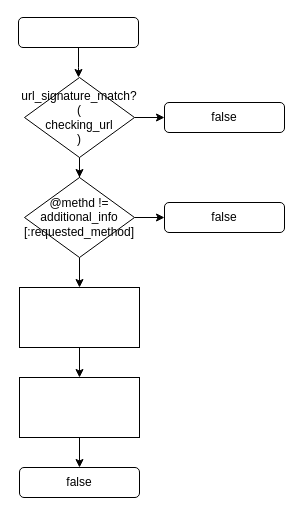
Image size: 302x515. Some labels were removed from this diagram. Here are the shapes that lost their labels. From the top down, the centre of each, then its label:
(x=78, y=32): начало
(x=79, y=317): @correct_url_signature = make_url_signature (checking_url)
(x=79, y=407): @found_url = checking_url
